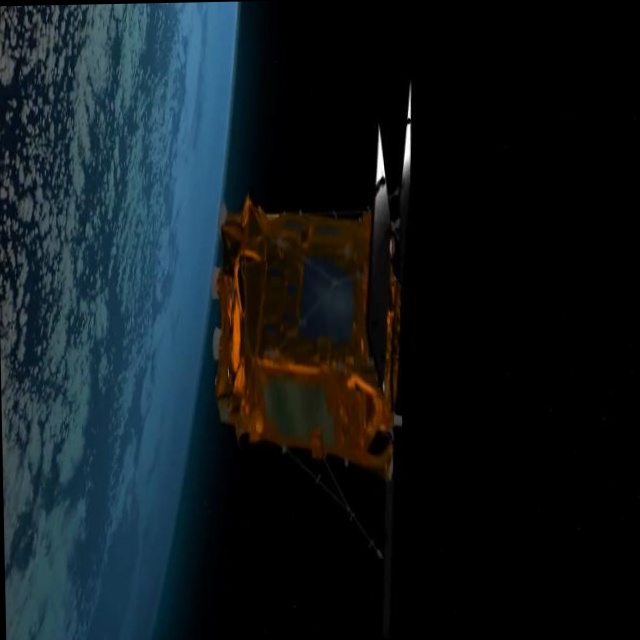satellite: (193, 52, 448, 523)
